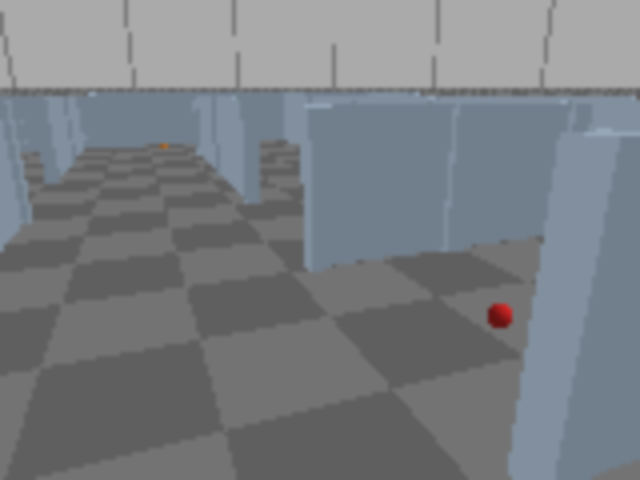puck: (481, 298, 521, 335)
